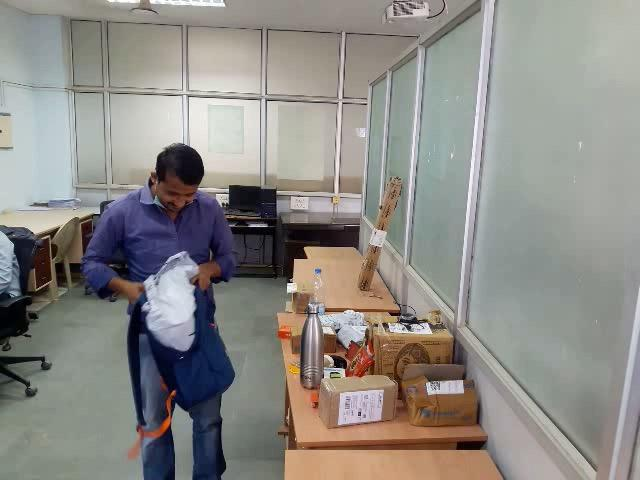shoplifting: (92, 248, 286, 418)
